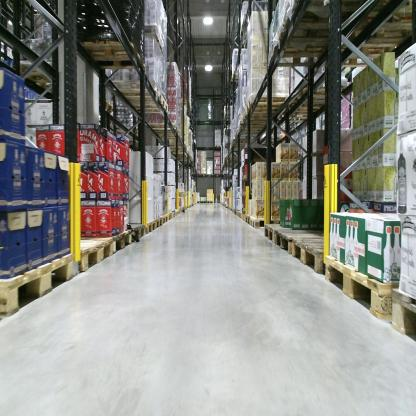pallet: (323, 251, 402, 330), (0, 254, 75, 320), (278, 2, 357, 39), (268, 29, 339, 70), (72, 36, 147, 74), (292, 234, 350, 276), (363, 0, 413, 43), (344, 25, 402, 59), (336, 39, 392, 72), (73, 236, 114, 280), (275, 228, 330, 259), (22, 62, 69, 93), (111, 82, 161, 109), (392, 288, 415, 336), (287, 88, 341, 106), (264, 223, 306, 245), (140, 18, 167, 47), (245, 95, 291, 112), (108, 228, 134, 257), (121, 96, 168, 112), (127, 220, 145, 249), (239, 117, 271, 128), (250, 215, 275, 229), (151, 124, 179, 134), (240, 111, 271, 120), (231, 69, 246, 85), (156, 132, 184, 139), (145, 220, 157, 235), (163, 145, 188, 152), (104, 104, 117, 117), (155, 217, 165, 229), (195, 171, 207, 178), (162, 213, 169, 225), (246, 214, 251, 225), (241, 213, 246, 222), (238, 210, 242, 220), (206, 200, 214, 204), (168, 212, 172, 220), (172, 211, 176, 219), (237, 209, 240, 218), (206, 173, 214, 176), (213, 172, 220, 175), (175, 209, 178, 216)
